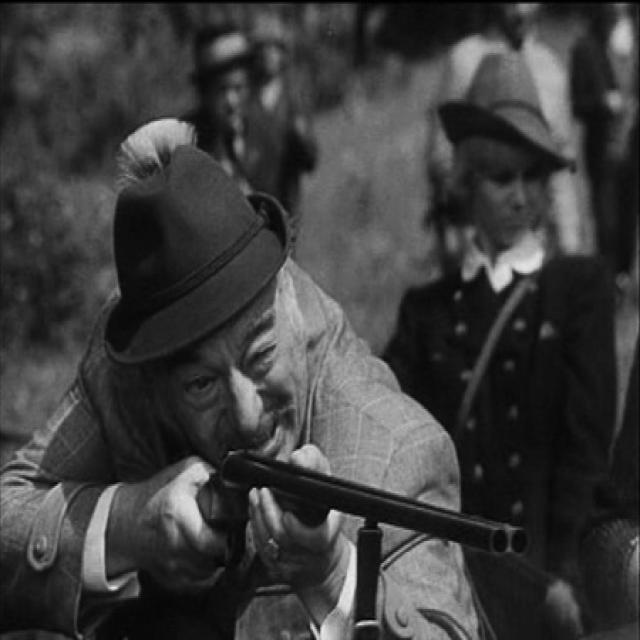rifle: (200, 447, 538, 576)
